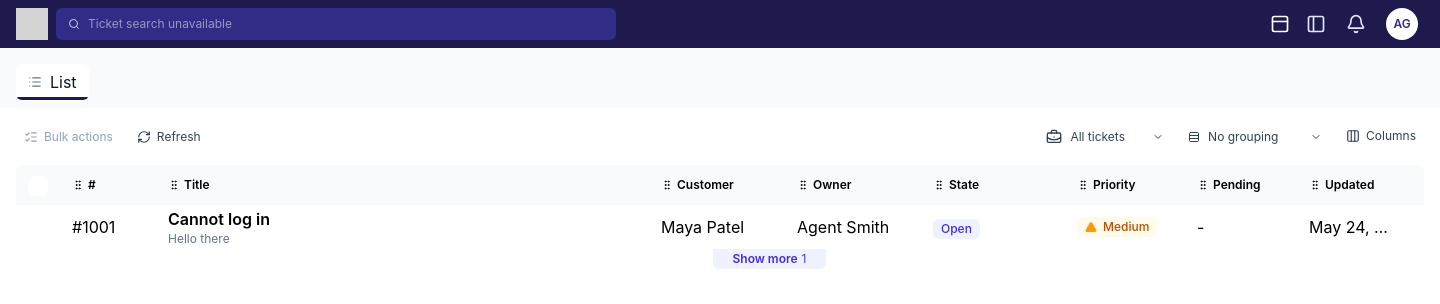
Test: TicketWorkspace paging and sort › loads the next ungrouped list page without loading ticket detail
Expected: the text "Webhook failed" is not shown
Click the button with aria-label "Show more tickets (1)".
click(770, 259)  # box [712, 249, 826, 269]
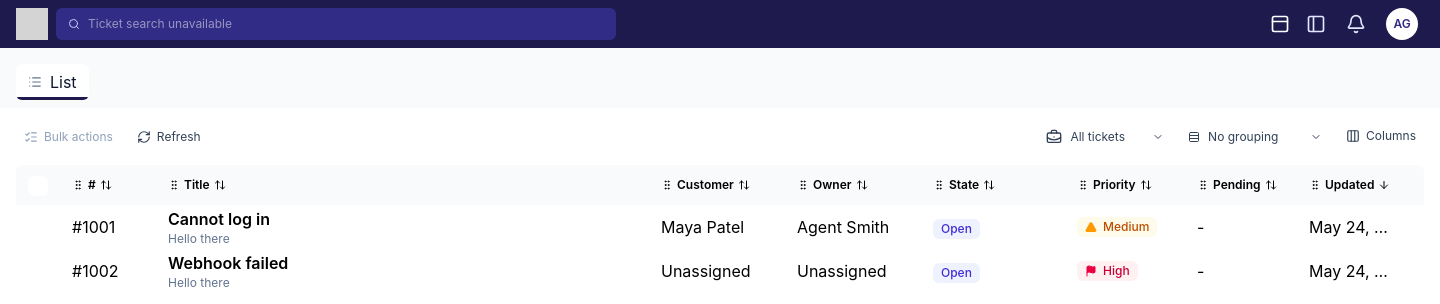
Expected: the text "Webhook failed" is shown, [168, 253, 288, 273]
